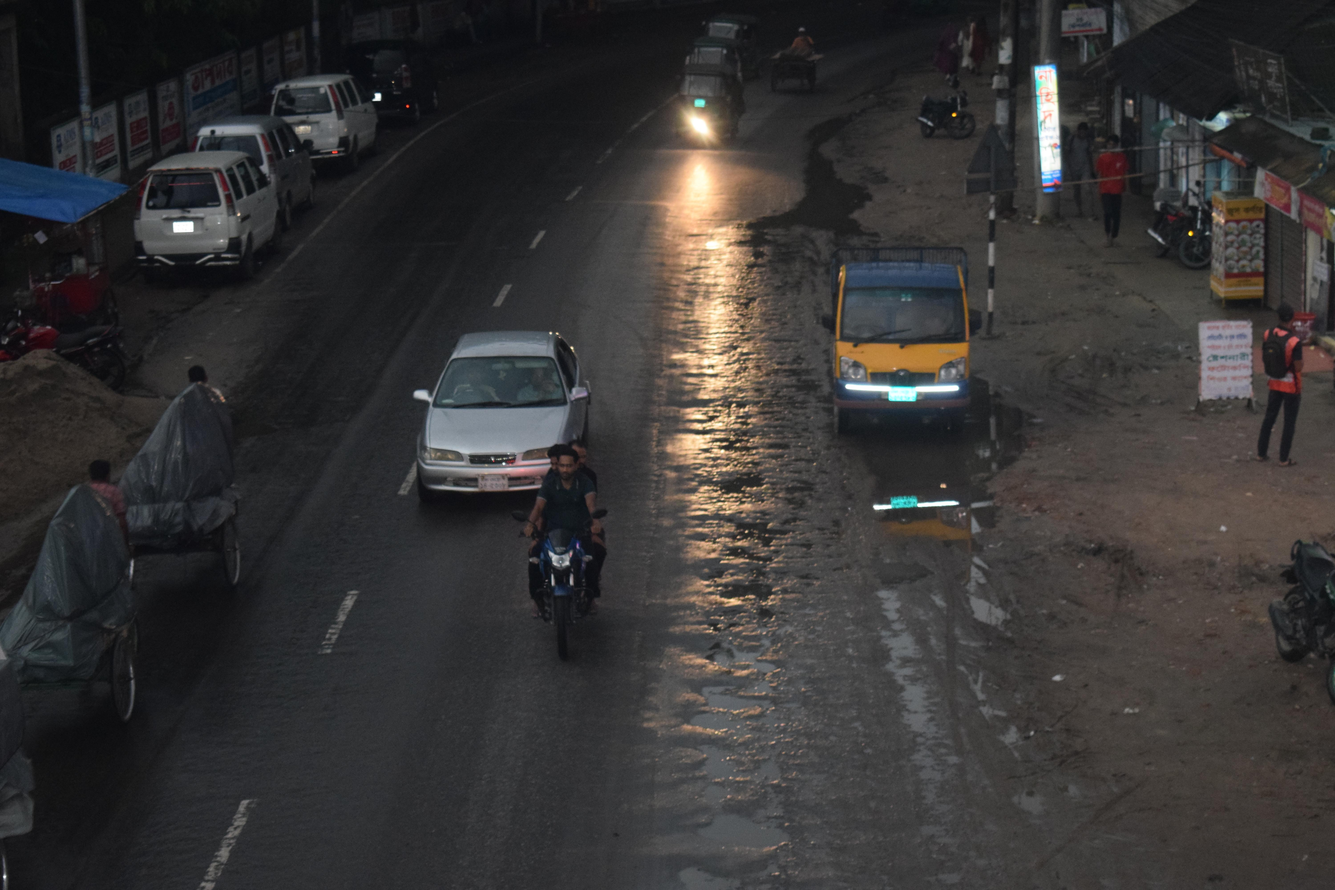Bike: (487, 430, 638, 677), (0, 300, 142, 377), (897, 65, 993, 163), (1136, 181, 1229, 277)
Car: (366, 284, 612, 522), (0, 427, 164, 761), (99, 328, 260, 605), (99, 134, 299, 289), (188, 96, 331, 222), (273, 63, 384, 182)
